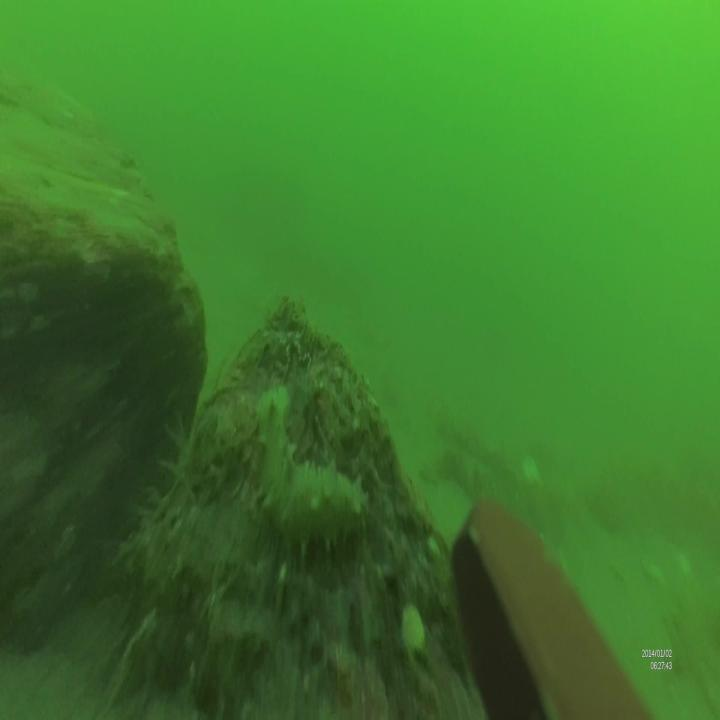holothurian: (251, 383, 370, 548)
